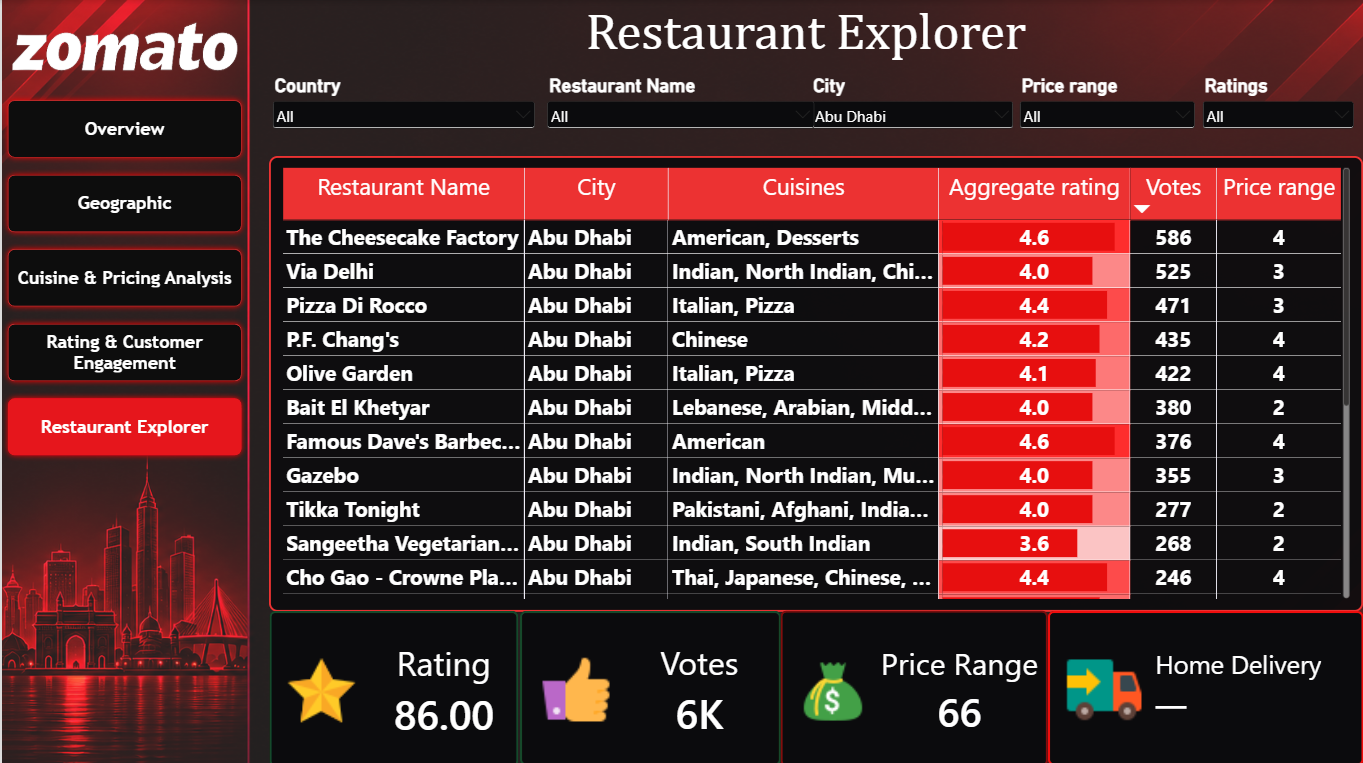

What the dashboard file says about the page in this screenshot:
{"tool":"powerbi","page":{"name":"Restaurant Explorer","canvas":[1920,1080],"ordinal":4},"visuals":[{"type":"slicer","fields":{"Values":["Country.Country"]},"box":[377.5,105.5,379.8,114.9],"z":0},{"type":"slicer","fields":{"Values":["Zomato_Cleaned_v2.City"]},"box":[1134.7,105.5,295.2,115.2],"z":1000},{"type":"slicer","fields":{"Values":["Zomato_Cleaned_v2.Price range"]},"box":[1430.1,105.5,256.8,115.2],"z":2000},{"type":"slicer","fields":{"Values":["Zomato_Cleaned_v2.Rating text"]},"box":[1688,105.5,223.2,115.2],"z":3000},{"type":"tableEx","fields":{"Values":["Zomato_Cleaned_v2.Restaurant Name","Zomato_Cleaned_v2.City","Zomato_Cleaned_v2.Cuisines","Zomato_Cleaned_v2.Aggregate rating","Zomato_Cleaned_v2.Votes","Zomato_Cleaned_v2.Price range"]},"box":[377.5,220.4,1542.7,642.4],"z":4000},{"type":"slicer","fields":{"Values":["Zomato_Cleaned_v2.Restaurant Name"]},"box":[764.3,105.5,386.8,114.9],"z":5000},{"type":"cardVisual","fields":{"Data":["Sum(Zomato_Cleaned_v2.Aggregate rating)"]},"box":[377.5,860.4,351.7,220.4],"z":6000},{"type":"cardVisual","fields":{"Data":["Measures (2).Total Votes"]},"box":[729.1,860.4,368.1,218],"z":7000},{"type":"cardVisual","fields":{"Data":["Sum(Zomato_Cleaned_v2.Price range)"]},"box":[1097.2,860.4,377.5,220.4],"z":8000},{"type":"cardVisual","fields":{"Data":["Measures (2).Selected Delivery"]},"box":[1474.7,860.4,445.5,218],"z":9000},{"type":"textbox","box":[347,0,1573.1,121.9],"z":10000},{"type":"image","box":[0,0,347,131.3],"z":11000},{"type":"pageNavigator","box":[0,133.6,347,520.5],"z":12000}]}

Visuals, with their boxes in screenshot pixels (x1, y1, x2, y2), scaled from the page's 1920x1080 canvas onto the 1363x763 screenshot:
slicer - Country.Country: detection(268, 75, 538, 156)
slicer - Zomato_Cleaned_v2.City: detection(806, 75, 1015, 156)
slicer - Zomato_Cleaned_v2.Price range: detection(1015, 75, 1198, 156)
slicer - Zomato_Cleaned_v2.Rating text: detection(1198, 75, 1357, 156)
tableEx - Zomato_Cleaned_v2.Restaurant Name x Zomato_Cleaned_v2.City: detection(268, 156, 1362, 610)
slicer - Zomato_Cleaned_v2.Restaurant Name: detection(543, 75, 817, 156)
cardVisual - Sum(Zomato_Cleaned_v2.Aggregate rating): detection(268, 608, 518, 762)
cardVisual - Measures (2).Total Votes: detection(518, 608, 779, 762)
cardVisual - Sum(Zomato_Cleaned_v2.Price range): detection(779, 608, 1047, 762)
cardVisual - Measures (2).Selected Delivery: detection(1047, 608, 1362, 762)
textbox: detection(246, 0, 1362, 86)
image: detection(0, 0, 246, 93)
pageNavigator: detection(0, 94, 246, 462)
